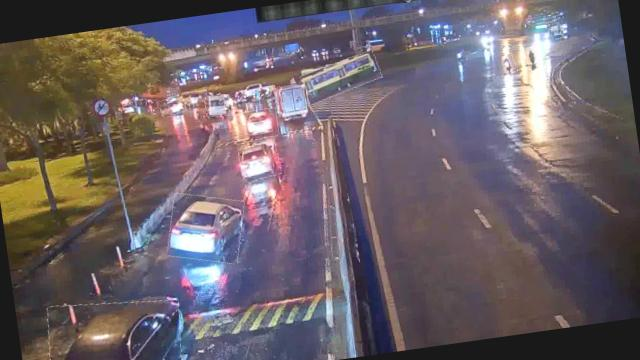Bike: (524, 44, 542, 70), (501, 53, 516, 74)
Bus: (297, 52, 383, 102), (203, 94, 230, 118)
Car: (42, 290, 188, 360), (162, 188, 248, 269), (236, 136, 281, 181), (244, 107, 279, 138), (158, 95, 186, 117), (183, 89, 208, 105)
Truck: (276, 82, 308, 120)
